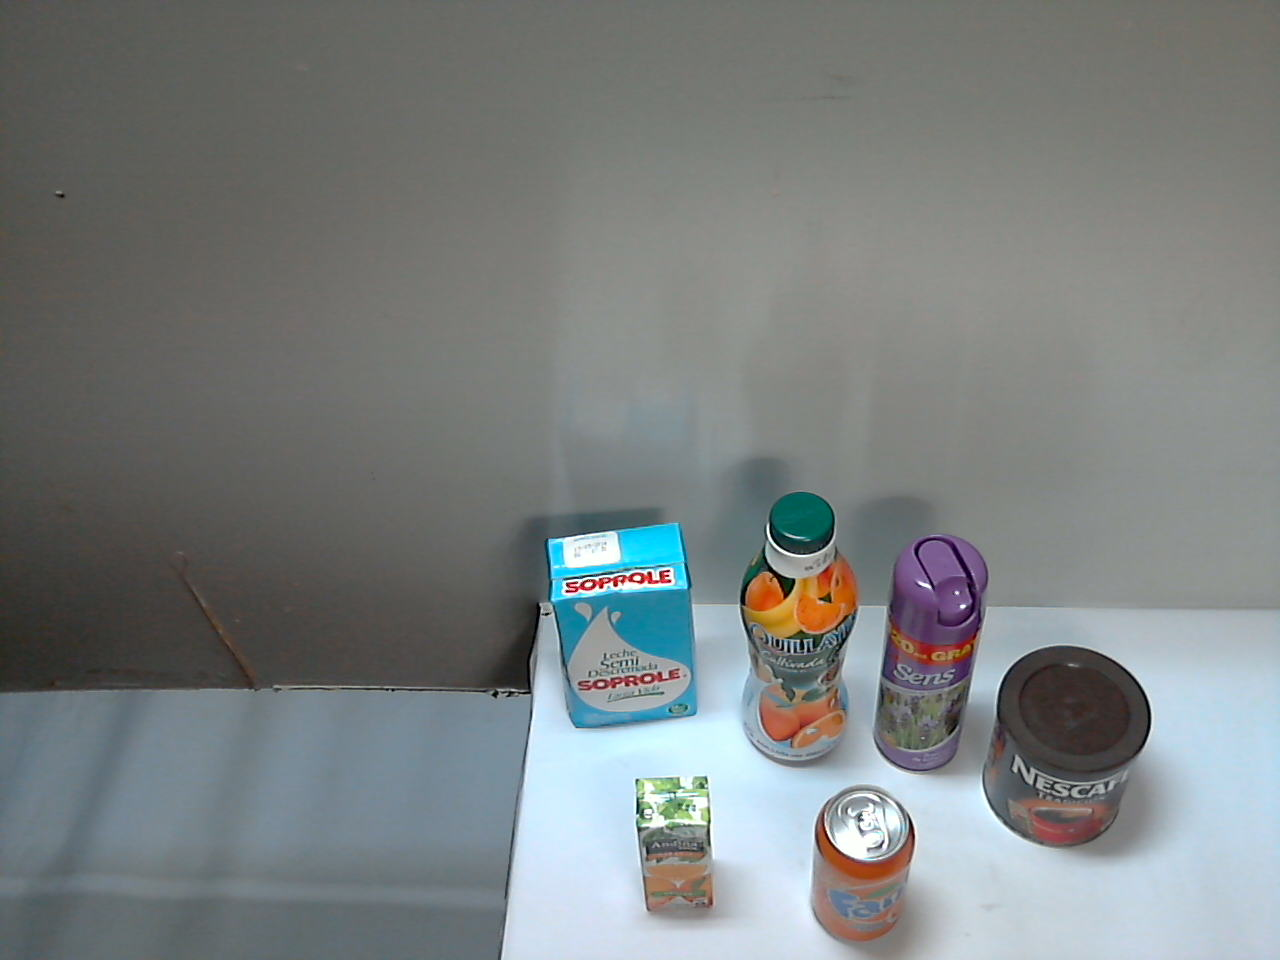aceite: (671, 382, 804, 672)
aerosol: (555, 450, 679, 698)
coca: (611, 634, 708, 832)
confort: (921, 456, 1230, 831)
mantequilla: (755, 743, 905, 856)
papas: (786, 457, 921, 729)
